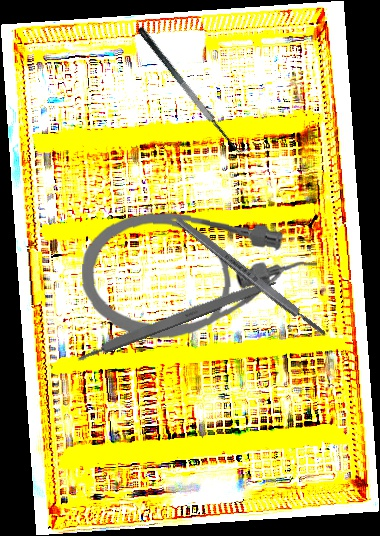Cannula: (78, 206, 320, 348)
Scalpel Handle: (172, 213, 329, 340), (72, 273, 279, 365)
Spatula Surgical: (136, 17, 252, 162)
